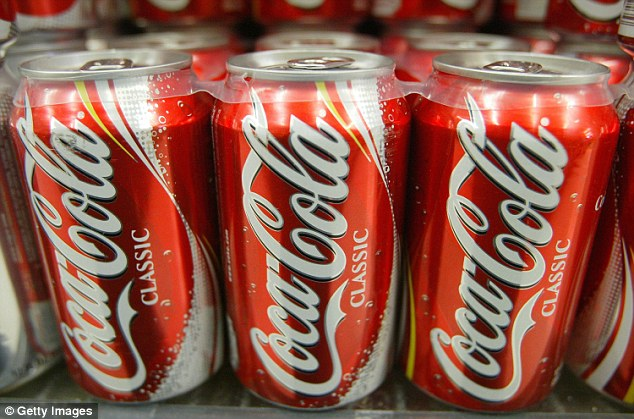can: (7, 42, 229, 407), (408, 40, 615, 419), (211, 39, 404, 416)
